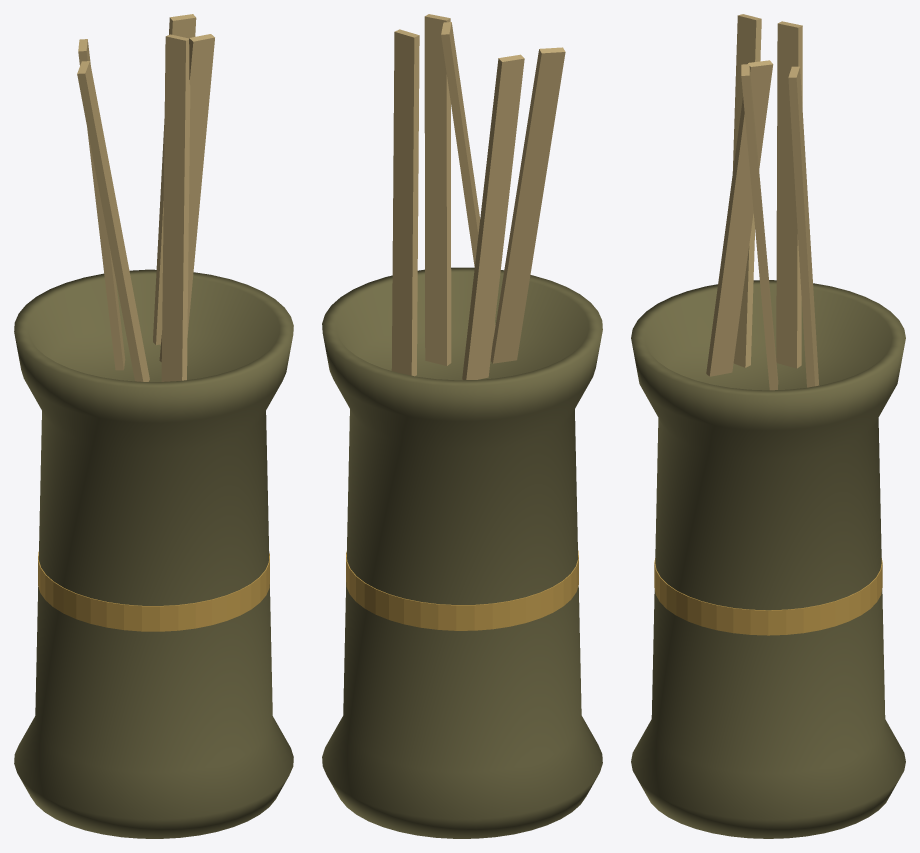
Rendered from poem_tube.glb.
3 views of the same model, side by side, from view 1: azimuth 30°, elevation 25°; view 2: azimuth 150°, elevation 25°; view 3: azimuth 270°, elevation 25° (orthographic). The views are drawn at different scales.
Parts seen in each view (by area): view 1: tube; view 2: tube; view 3: tube.
Part boxes in pixels (bbox=[...]): tube: bbox=[14, 14, 293, 838]; tube: bbox=[322, 14, 602, 838]; tube: bbox=[631, 14, 905, 838].
Bounding box in the file's own units: 0.2 × 0.5901 × 0.2.
